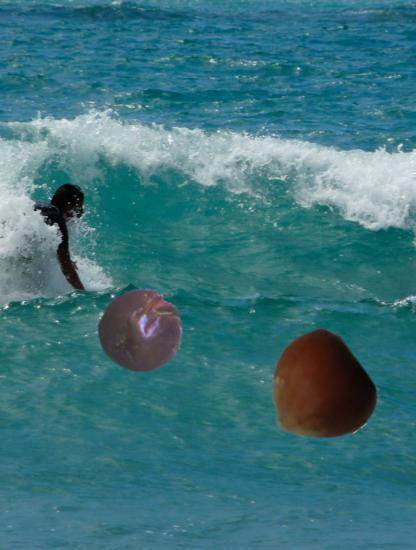Nut: (262, 336, 374, 448)
Passion: (98, 285, 187, 374)
